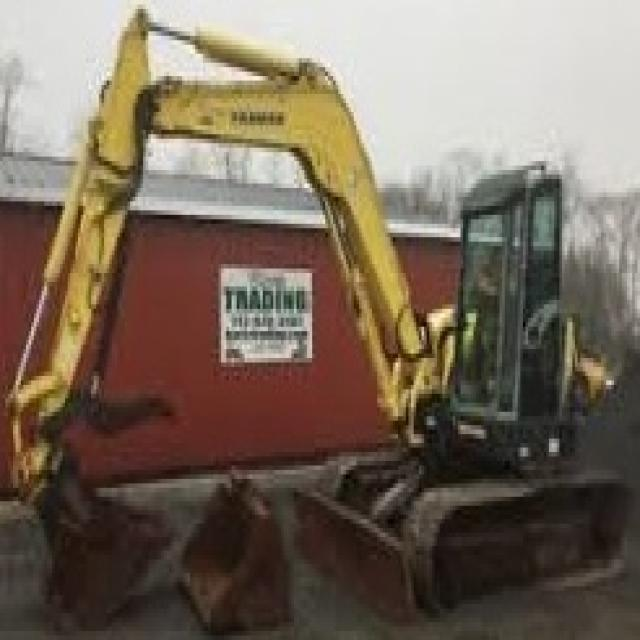excavator: (318, 136, 640, 616)
